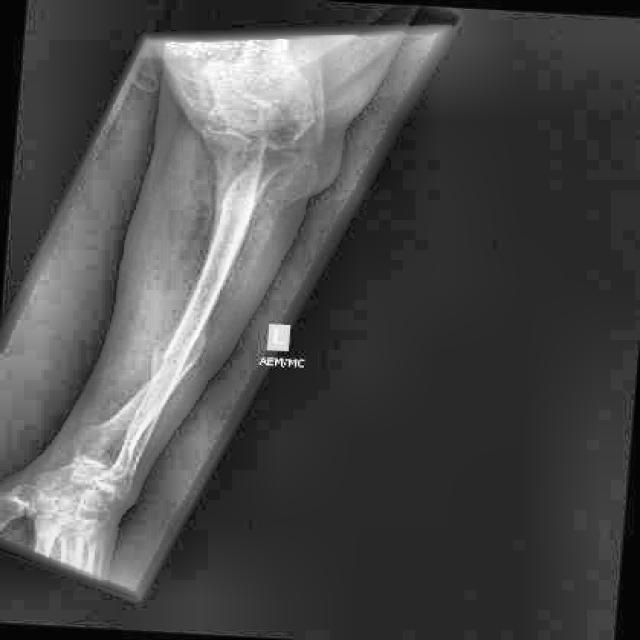forearm fracture: (128, 304, 224, 400)
